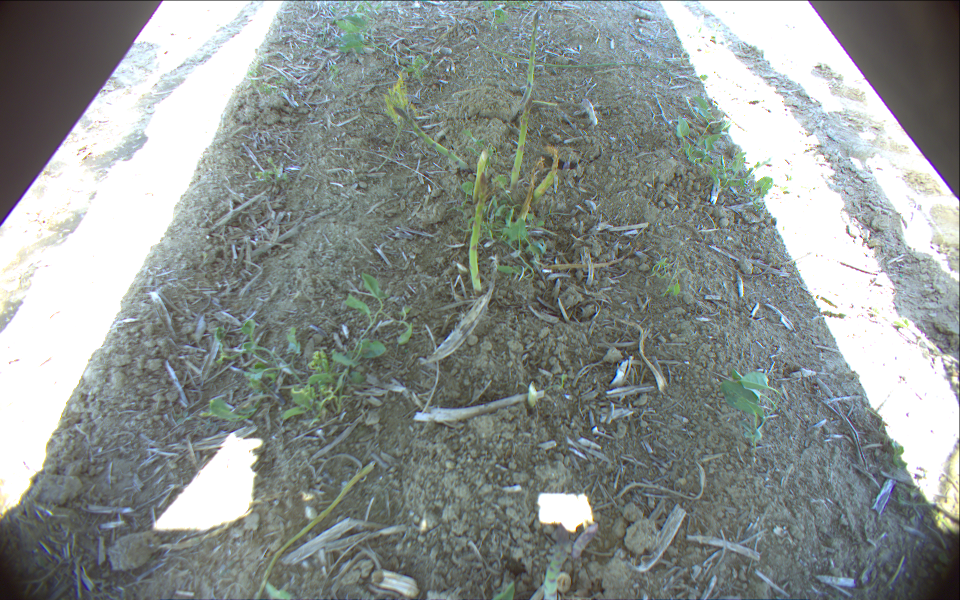aspa: (390, 103, 470, 174), (505, 98, 540, 197), (467, 173, 493, 294), (517, 11, 543, 105), (543, 518, 568, 600)
